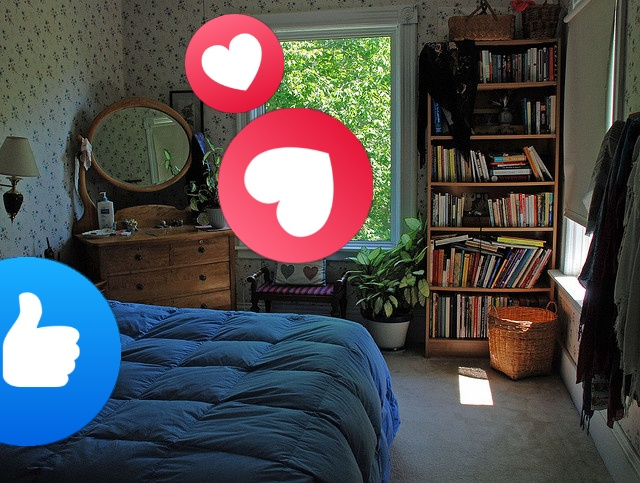like: (0, 257, 121, 446)
love: (218, 108, 373, 263), (185, 14, 284, 113)
